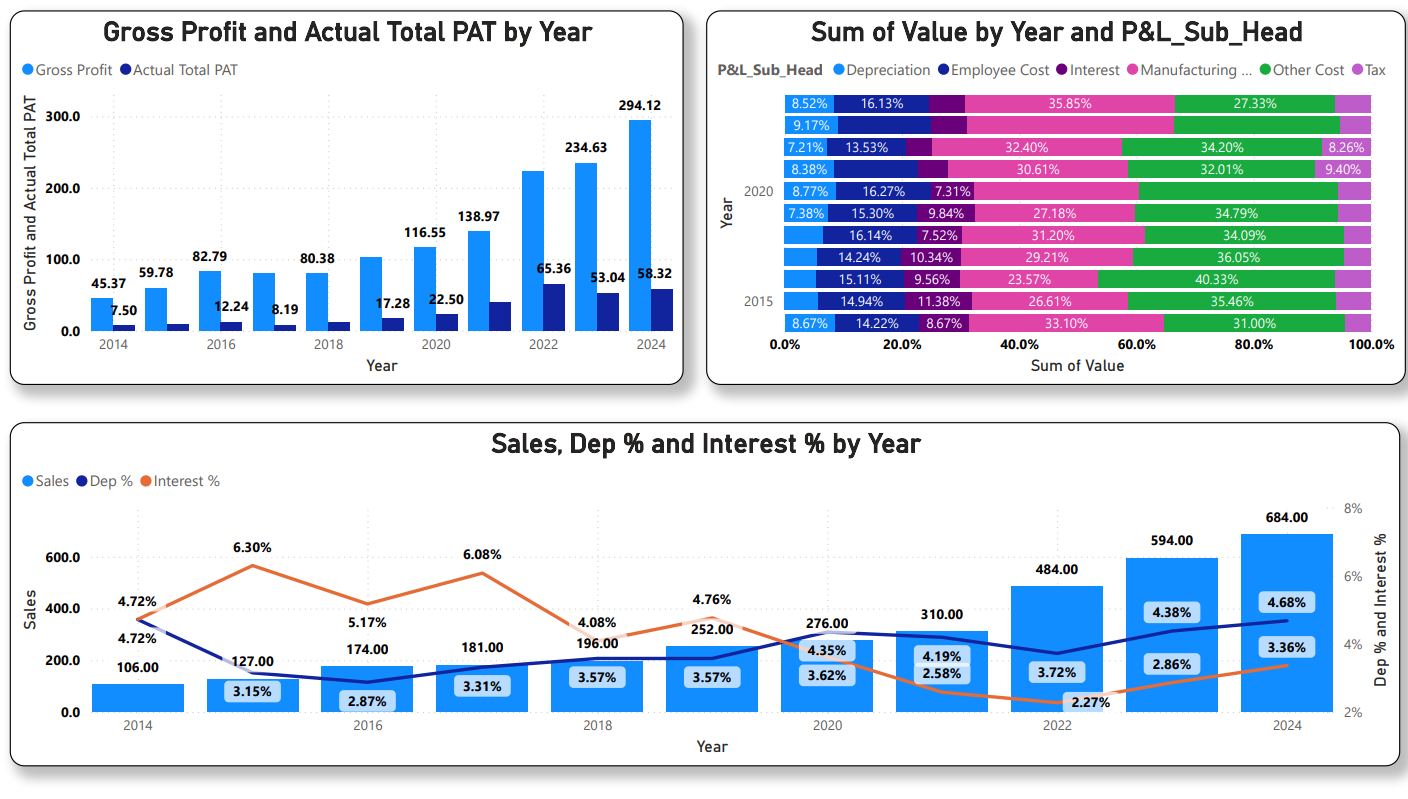

The page's visual inventory and layout, read from the dashboard file:
{"tool":"powerbi","page":{"name":"IS Analysis","canvas":[1280,720],"ordinal":4},"visuals":[{"type":"clusteredColumnChart","fields":{"Category":["Date Dim.Date.Variation.Date Hierarchy.Year"],"Y":["P&L Fact.Gross Profit","P&L Fact.Actual Total PAT"]},"box":[21.7,26.5,599.6,333],"z":0},{"type":"hundredPercentStackedBarChart","fields":{"Category":["Date Dim.Date.Variation.Date Hierarchy.Year"],"Y":["Sum(P&L Fact.Value)"],"Series":["P&L Fact.P&L_Sub_Head"]},"box":[640.6,26.5,622.5,333],"z":1000},{"type":"lineClusteredColumnComboChart","fields":{"Category":["Date Dim.Date.Variation.Date Hierarchy.Year"],"Y":["P&L Fact.Sales"],"Y2":["P&L Fact.Dep %","P&L Fact.Interest %"]},"box":[21.7,393.3,1236.6,305.2],"z":2000}]}

Visuals, with their boxes in screenshot pixels (x1, y1, x2, y2), scaled from the page's 1280x720 canvas onto the 1408x799 screenshot:
clusteredColumnChart - Date Dim.Date.Variation.Date Hierarchy.Year x P&L Fact.Gross Profit: [24, 29, 683, 399]
hundredPercentStackedBarChart - Date Dim.Date.Variation.Date Hierarchy.Year x Sum(P&L Fact.Value): [705, 29, 1389, 399]
lineClusteredColumnComboChart - Date Dim.Date.Variation.Date Hierarchy.Year x P&L Fact.Sales: [24, 436, 1384, 775]
